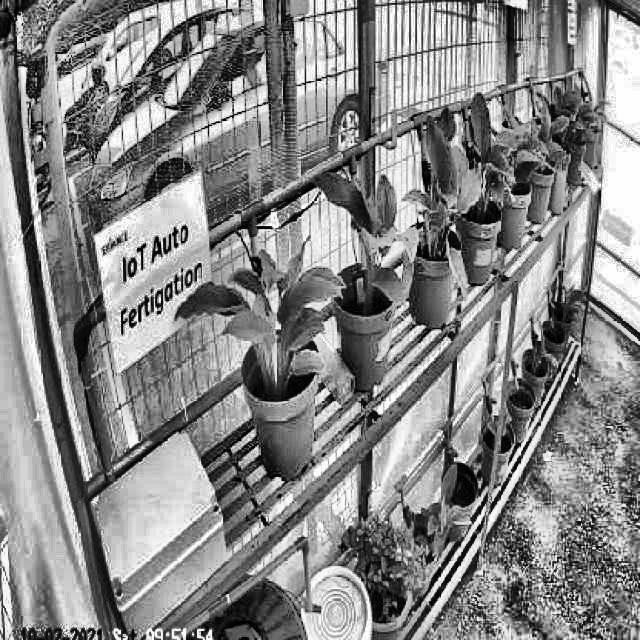plants: (171, 231, 344, 392), (313, 164, 419, 302), (399, 100, 472, 286), (438, 89, 520, 222)
